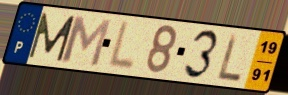3: (180, 28, 221, 81)
8: (145, 24, 178, 76)
L: (104, 20, 137, 73), (216, 32, 244, 83)
M: (60, 14, 114, 69), (26, 11, 78, 63)
